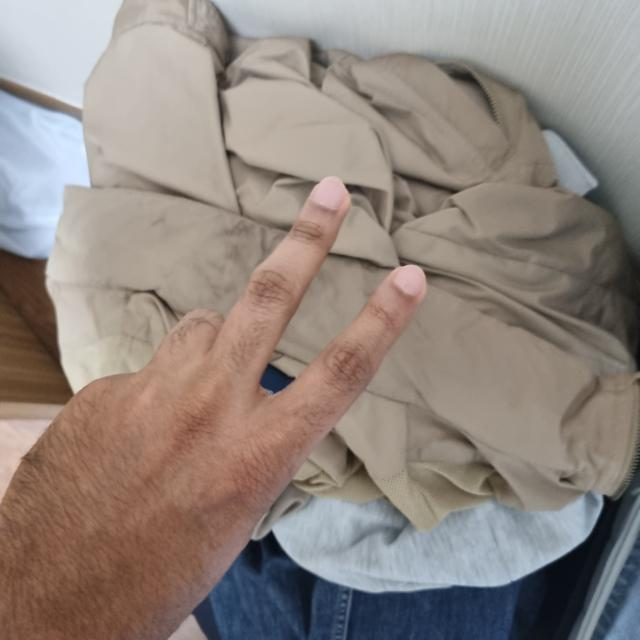Scissors: (0, 179, 426, 639)
